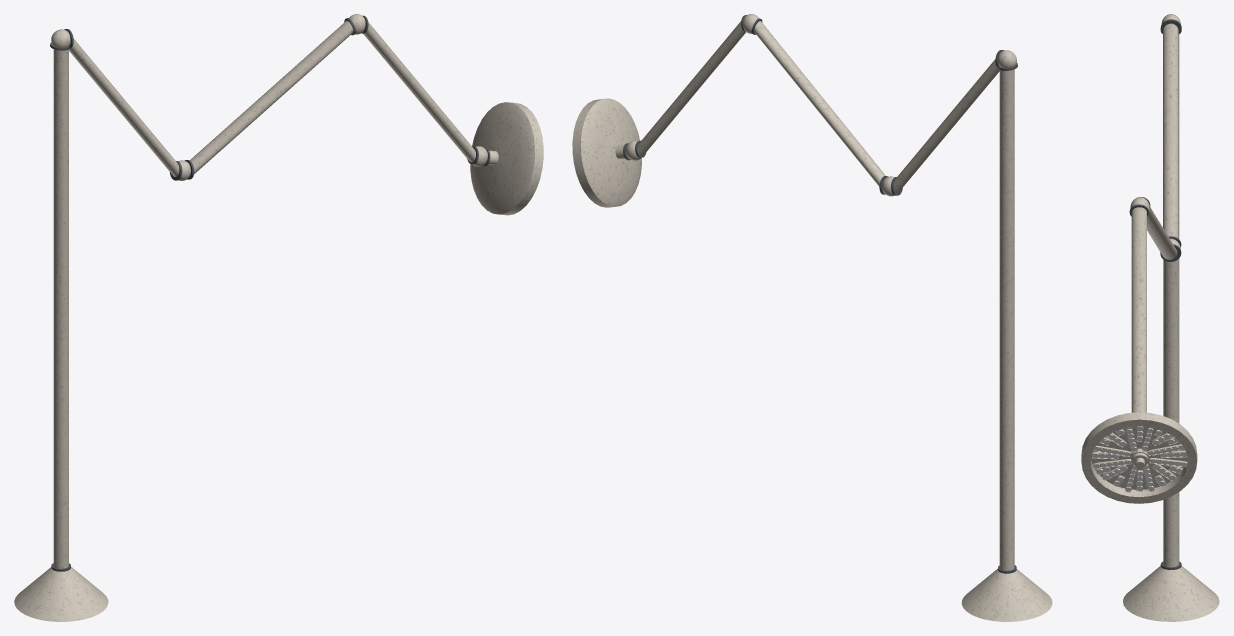
The model's file is medicalight.fbx.
The picture shows the model from 3 angles, left to right: view 1: azimuth 30°, elevation 25°; view 2: azimuth 150°, elevation 25°; view 3: azimuth 270°, elevation 25°; orthographic projection. The views are drawn at different scales.
Visible parts, largest first — view 1: Cylinder.005; view 2: Cylinder.005; view 3: Cylinder.005, Cylinder.073, Cube.020, Cylinder.107, Cylinder.016.
Boxes of the visible parts, box(x1,y1,x2,y2) form: Cylinder.005: box(14, 14, 543, 621); Cylinder.005: box(572, 14, 1052, 621); Cylinder.005: box(1081, 14, 1219, 621); Cylinder.073: box(1092, 426, 1187, 491); Cube.020: box(1091, 426, 1187, 492); Cylinder.107: box(1129, 19, 1181, 261); Cylinder.016: box(1131, 448, 1149, 468).
Size of the model in its own units: 1173 by 1307 by 279.
6 materials, 5 textured.
